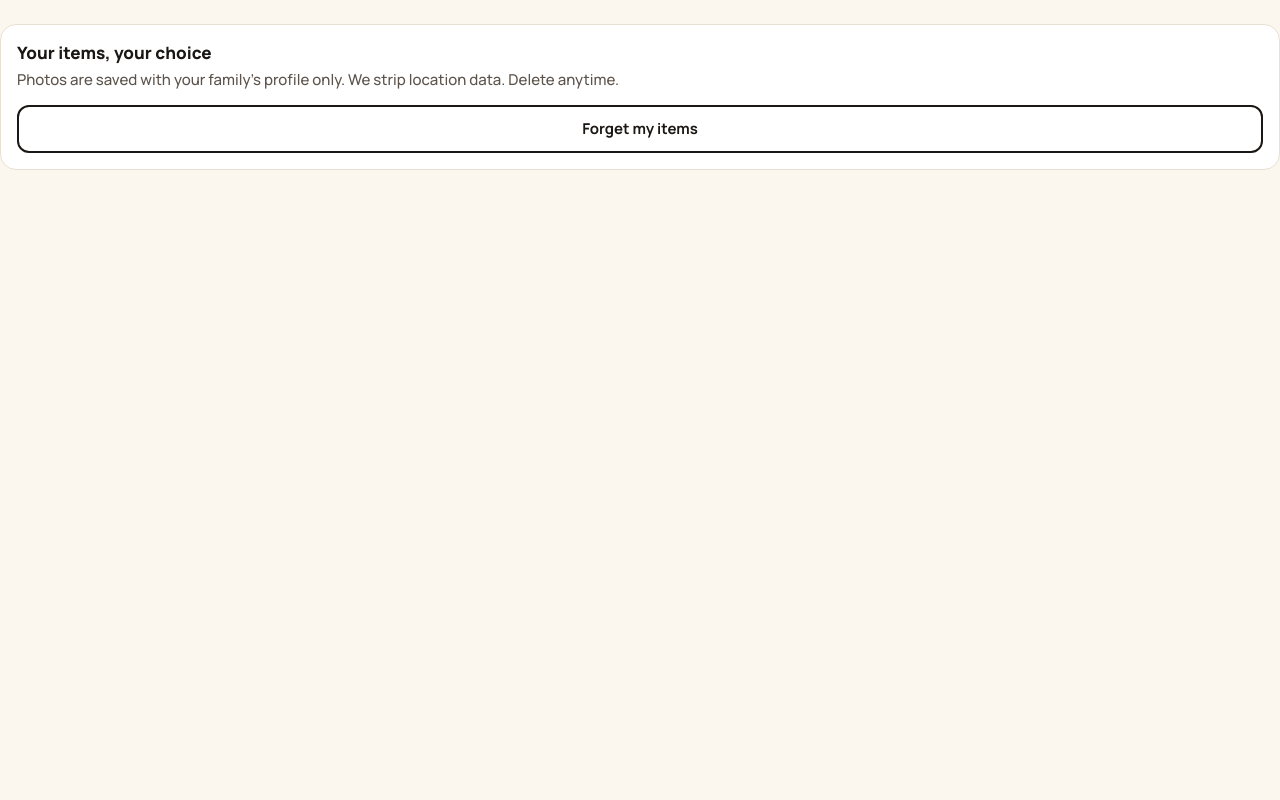
ForgetItemsCard › "Keep my items" closes the box without deleting anything
This screenshot has width=1280, height=800.
Click the button "Forget my items".
click(640, 129)  # box x1=17 y1=105 x2=1263 y2=153
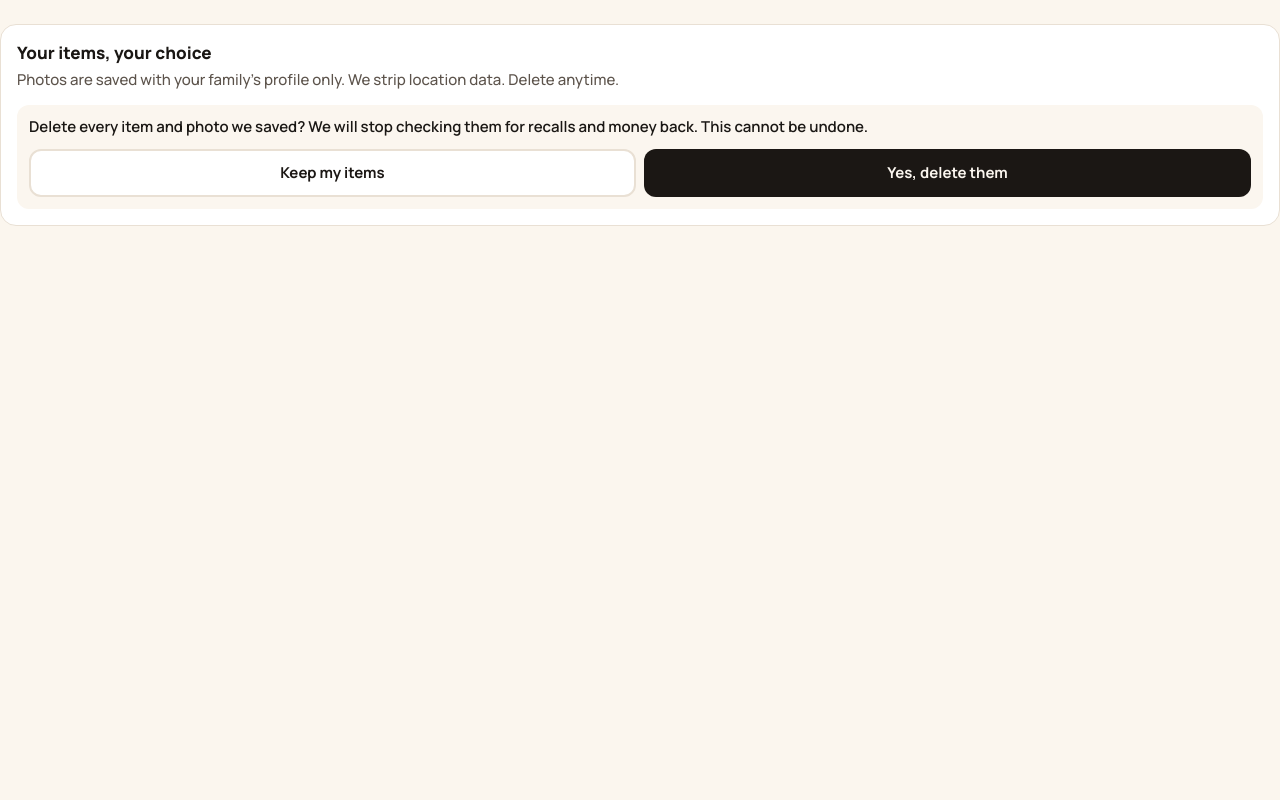
Click the button "Keep my items".
click(332, 173)  # box x1=29 y1=149 x2=636 y2=197
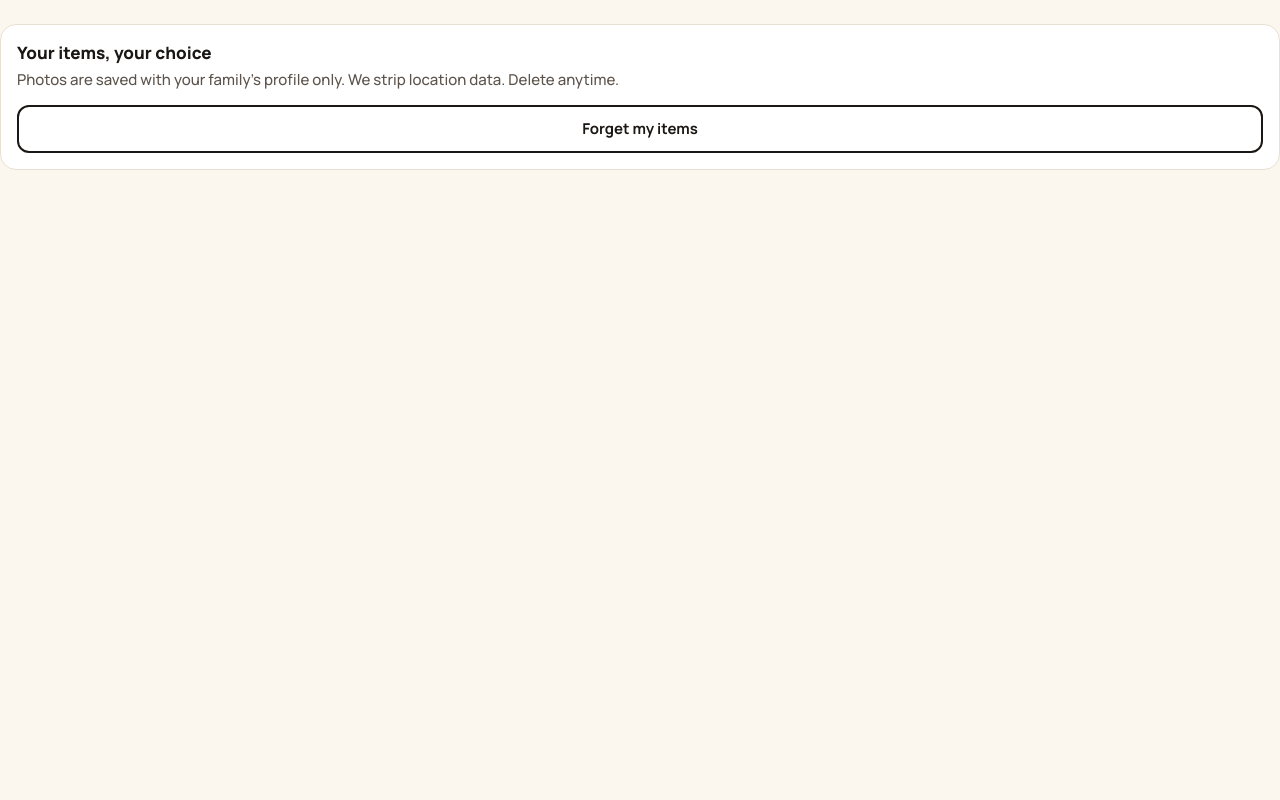
expect the dialog is gone: met
